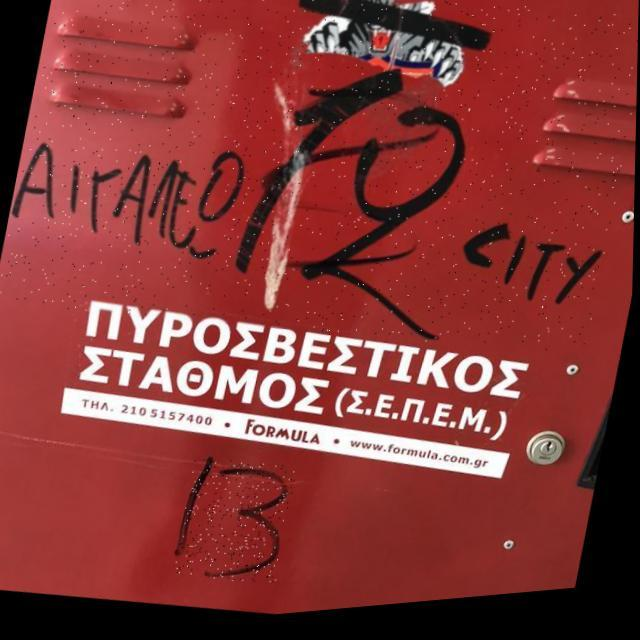-: (0, 0, 640, 407), (174, 454, 300, 597)
